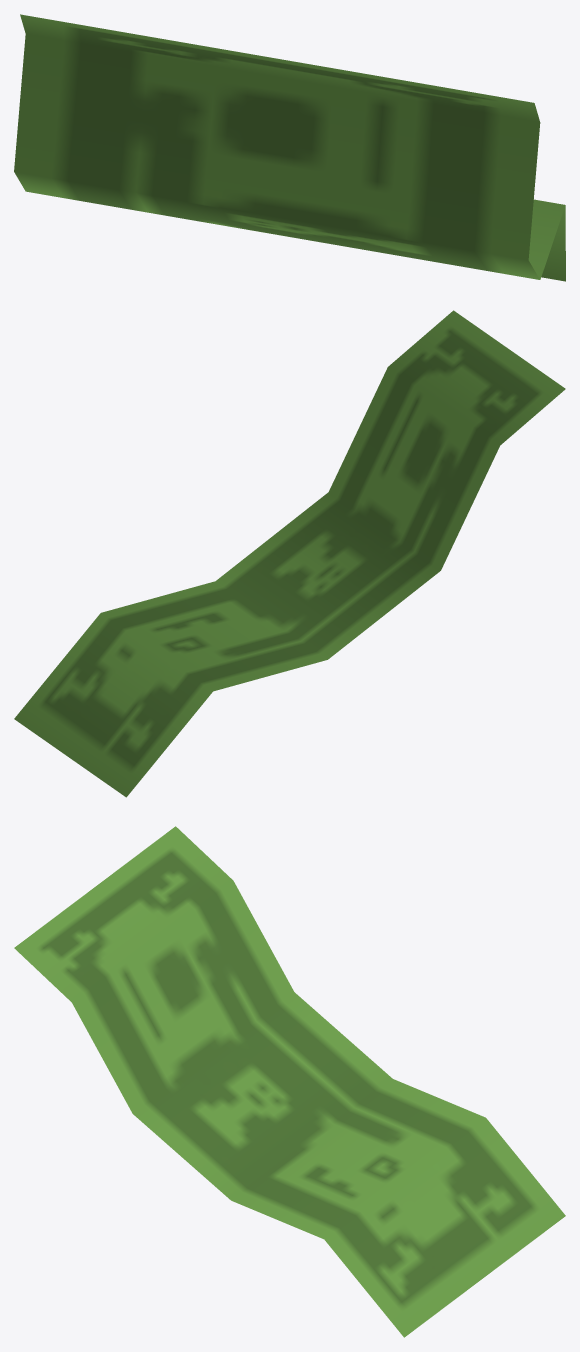
File: bill.glb
3 renders of one model, top to bottom at view 1: azimuth 30°, elevation 25°; view 2: azimuth 150°, elevation 25°; view 3: azimuth 270°, elevation 25°, orthographic. The views are drawn at different scales.
Visible parts, largest first — view 1: bill; view 2: bill; view 3: bill.
Boxes of the visible parts, x1=… form: bill: x1=14, y1=14, x2=565, y2=281; bill: x1=14, y1=310, x2=565, y2=797; bill: x1=14, y1=826, x2=565, y2=1337.
Size of the model in its own units: 3.03 by 2.33 by 3.66.
1 material, 1 textured.
